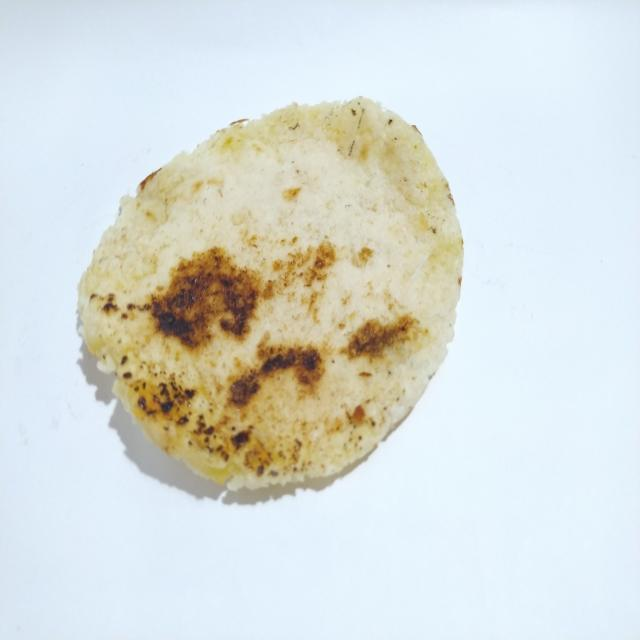Food: (77, 81, 470, 508)
